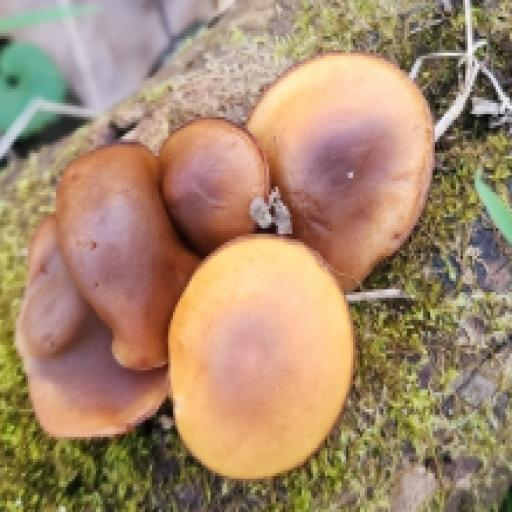mushroom: (16, 45, 444, 484)
